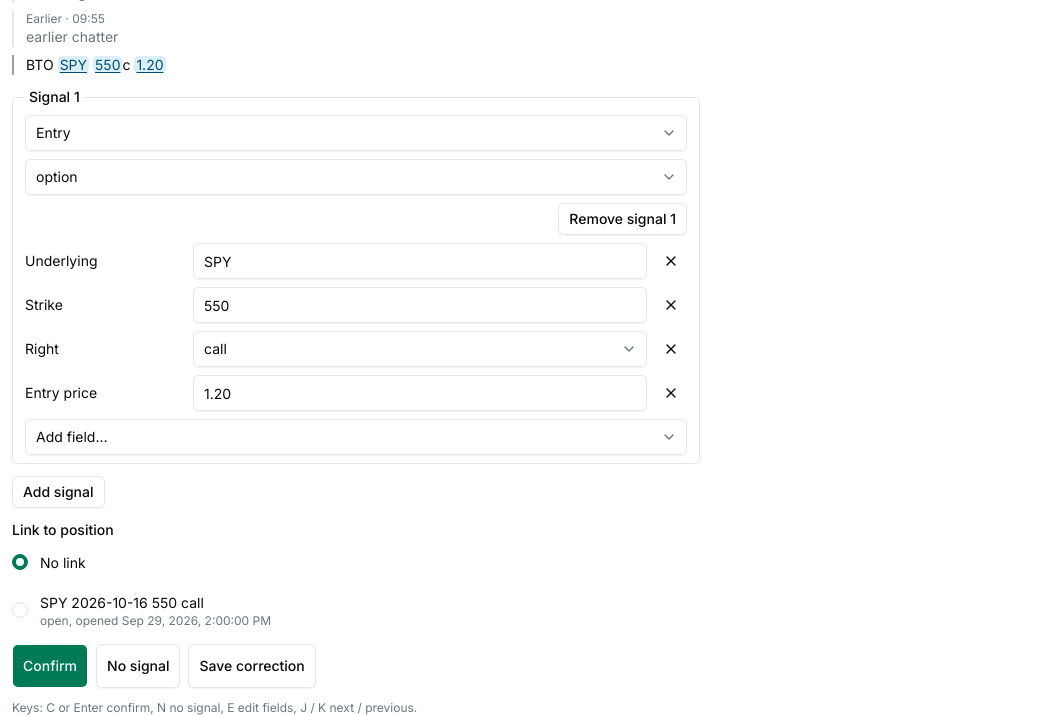
Scenario: label queue › confirm sends the prelabel unchanged
The image size is (1048, 716).
(page scrolled)
Step 1. Click the button "Confirm" → [50, 666], box [12, 644, 88, 688]
(page scrolled)
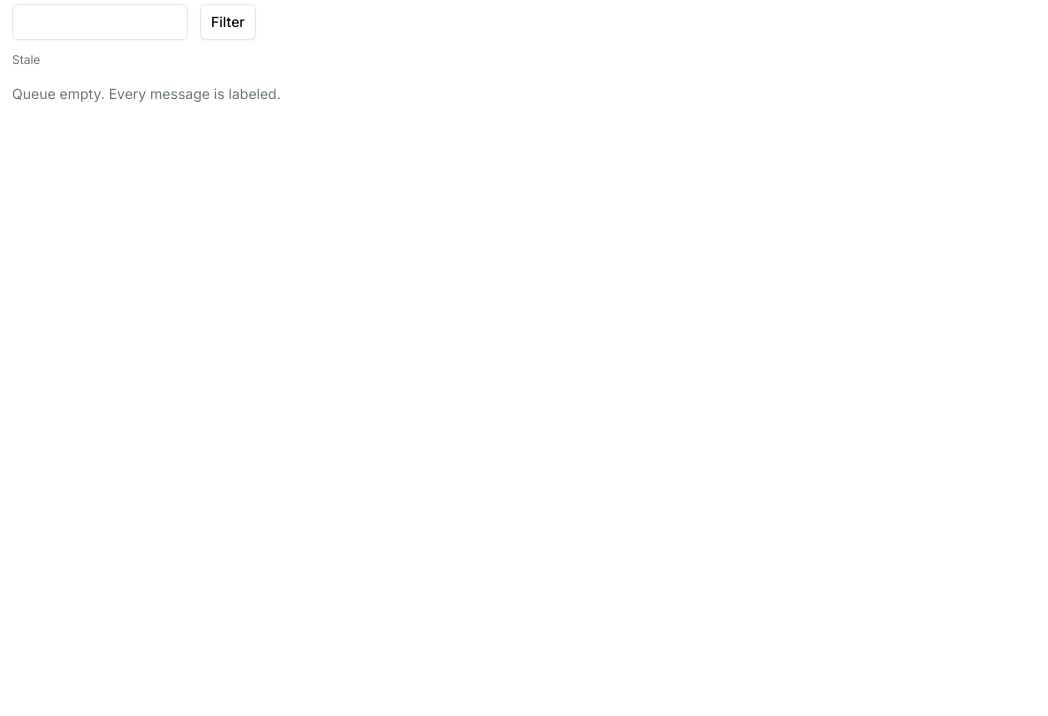
Expected: the text "Queue empty" is shown, [12, 85, 101, 102]
